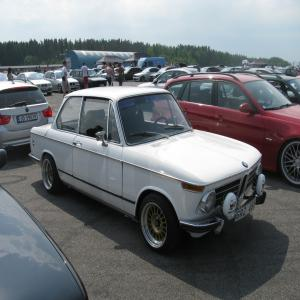Vehicle-registration-plate: (236, 197, 257, 225), (19, 114, 37, 124)
